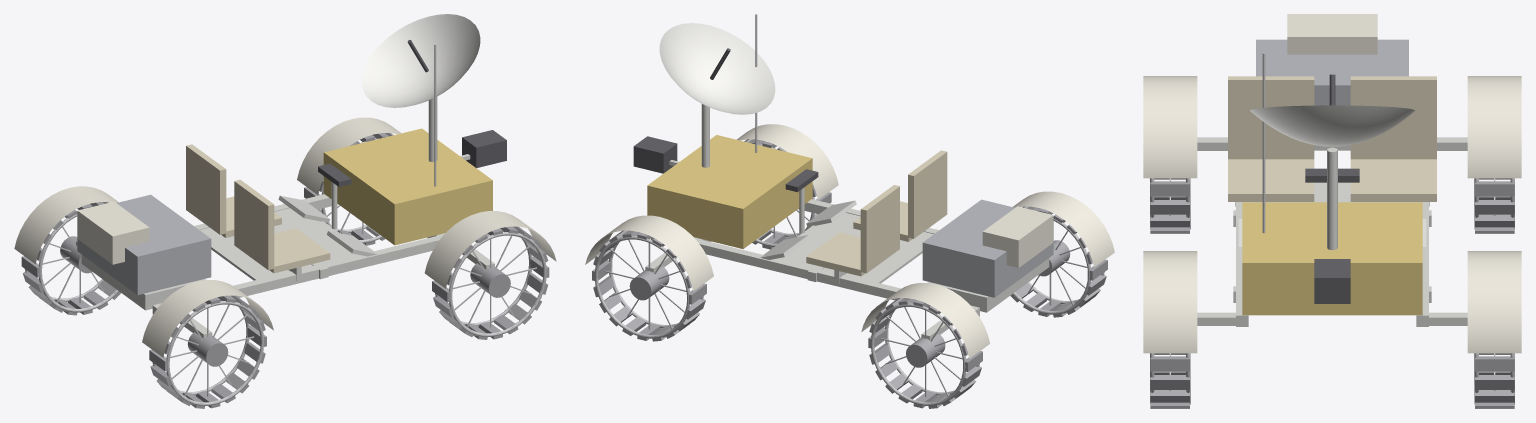
The model's file is lrv.glb.
3 renders of one model, left to right at view 1: azimuth 30°, elevation 25°; view 2: azimuth 150°, elevation 25°; view 3: azimuth 270°, elevation 25°, orthographic. The views are drawn at different scales.
Parts seen in each view (by area): view 1: forward_electronics, high_gain_antenna, rear_equipment, seat_back (×2), sample_bag, fender_rear_right, fender_front_right, rim (×3), floor, rail_right, fender_rear_left, fender_front_left (+7 smaller); view 2: forward_electronics, high_gain_antenna, rear_equipment, seat_back (×2), sample_bag, fender_front_left, rim (×3), fender_rear_left, floor, rail_left, fender_rear_right, fender_front_right (+7 smaller); view 3: forward_electronics, seat_back (×2), seat_base (×2), tread (×12), fender_front_left, fender_front_right, fender_rear_left, fender_rear_right, rear_equipment, high_gain_antenna, sample_bag, tv_camera (+10 smaller).
Part boxes in pixels (x1,y1,x2,y2): forward_electronics: (323,128,492,245); high_gain_antenna: (362,14,480,107); rear_equipment: (77,194,211,295); seat_back (×2): (186,144,274,270); sample_bag: (77,201,149,264); fender_rear_right: (142,280,273,357); fender_front_right: (424,211,556,288); rim (×3): (38,214,546,405); floor: (199,208,358,280); rail_right: (152,233,489,314); fender_rear_left: (14,186,118,263); fender_front_left: (297,117,401,194); forward_electronics: (647,135,812,248); high_gain_antenna: (659,23,775,114); rear_equipment: (922,199,1053,297); seat_back (×2): (860,150,947,273); sample_bag: (982,206,1053,267); fender_front_left: (585,215,713,291); rim (×3): (594,219,1090,405); fender_rear_left: (861,283,989,358); floor: (778,212,933,283); rail_left: (651,237,979,316); fender_rear_right: (1013,191,1114,267); fender_front_right: (737,124,838,199); forward_electronics: (1242,202,1422,315); seat_back (×2): (1228,76,1436,159); seat_base (×2): (1228,159,1436,201); tread (×12): (1150,181,1514,402); fender_front_left: (1467,251,1521,353); fender_front_right: (1143,251,1197,353); fender_rear_left: (1467,76,1521,178); fender_rear_right: (1143,76,1197,178); rear_equipment: (1256,39,1408,105); high_gain_antenna: (1250,105,1414,146); sample_bag: (1287,14,1377,54); tv_camera: (1314,259,1350,303).
Size of the model in its own units: 3.35 by 2.06 by 2.1.
